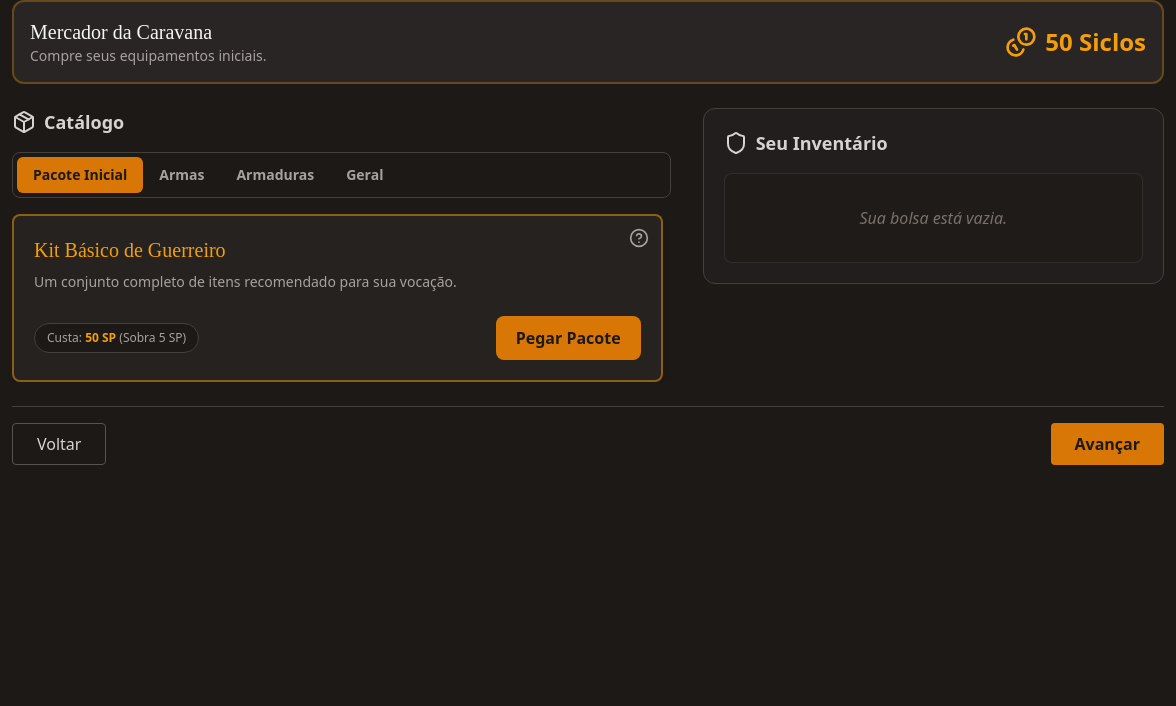
Test: catálogo por Vocação › sem Vocação escolhida, a loja usa a do Guerreiro
Expected: the heading "Kit Básico de Guerreiro" is shown, [34,239,226,261]
Click the button "Armas" at coordinates (182, 175), box [143,157,220,193]
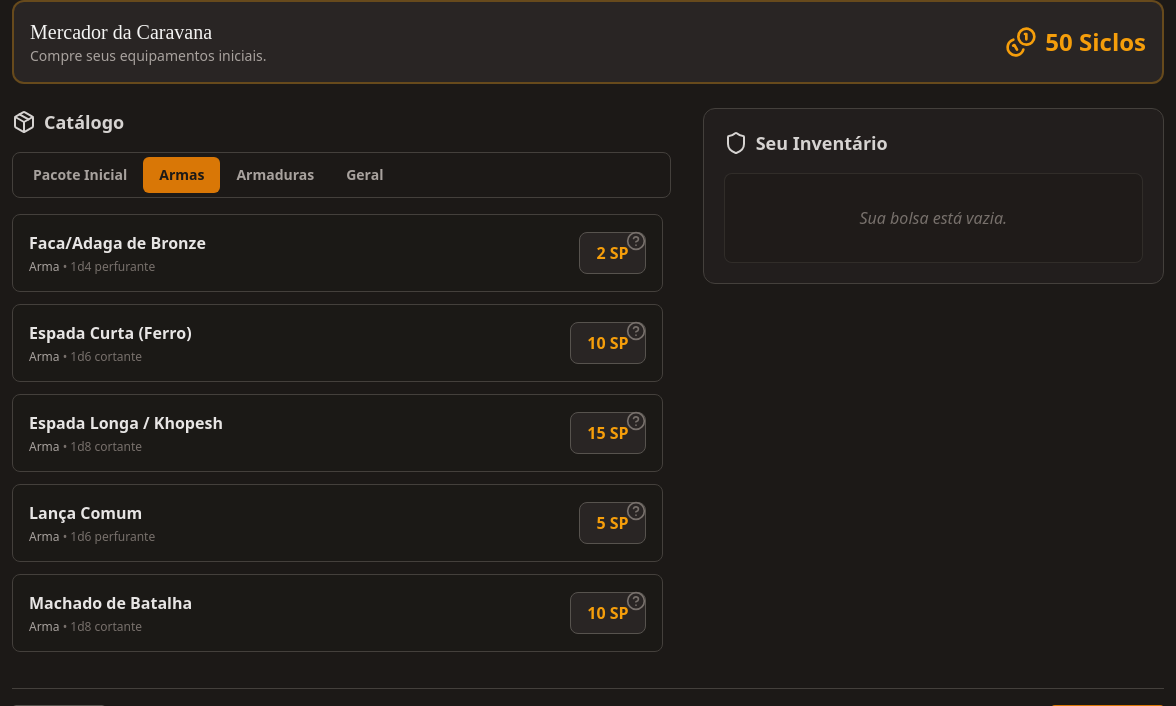
Expected: the heading "Espada Curta (Ferro)" is shown, [29,322,192,344]
